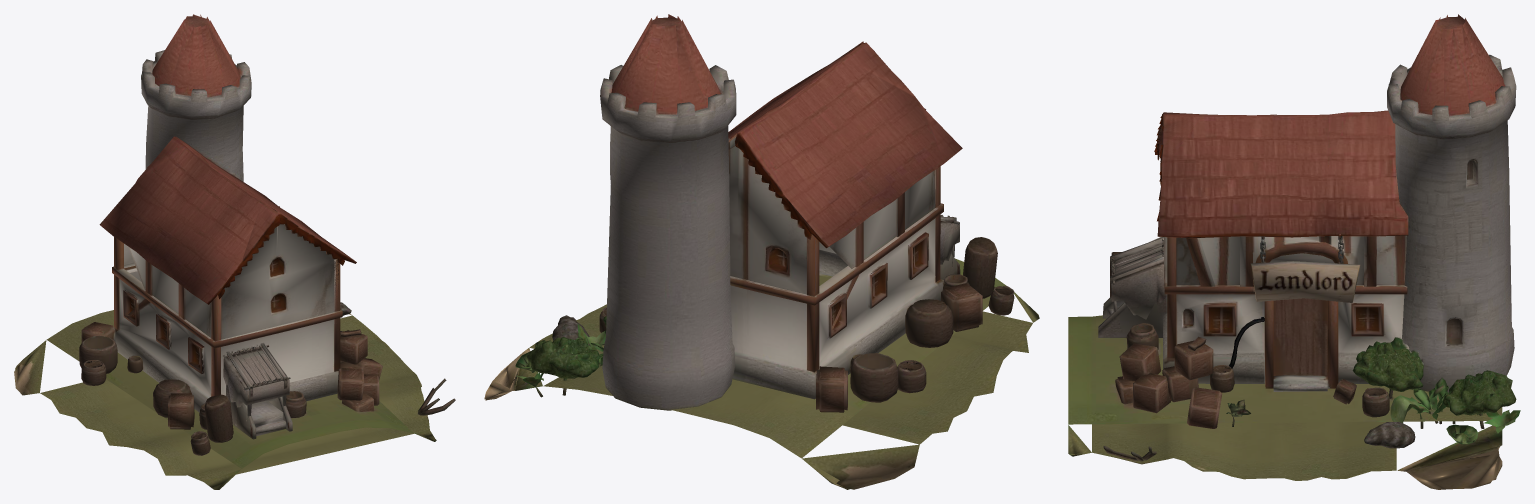
Rendered from landlord.glb.
3 renders of one model, left to right at view 1: azimuth 30°, elevation 25°; view 2: azimuth 150°, elevation 25°; view 3: azimuth 270°, elevation 25°, orthographic. The views are drawn at different scales.
Visible parts, largest first — view 1: tripo_node_d01467dc-a451-4de2-9896-244d84f1e524; view 2: tripo_node_d01467dc-a451-4de2-9896-244d84f1e524; view 3: tripo_node_d01467dc-a451-4de2-9896-244d84f1e524.
Boxes of the visible parts, left/top/right/bottom form: tripo_node_d01467dc-a451-4de2-9896-244d84f1e524: left=14, top=14, right=455, bottom=489; tripo_node_d01467dc-a451-4de2-9896-244d84f1e524: left=484, top=14, right=1039, bottom=489; tripo_node_d01467dc-a451-4de2-9896-244d84f1e524: left=1068, top=14, right=1520, bottom=489.
Bounding box in the file's own units: 4.21 × 4 × 4.21.
Materials: 1 (1 with a texture image).
